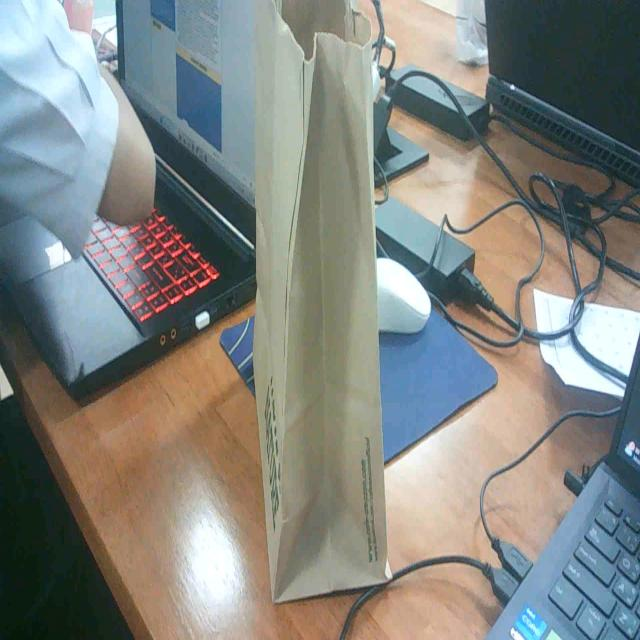bag: (245, 1, 407, 615)
